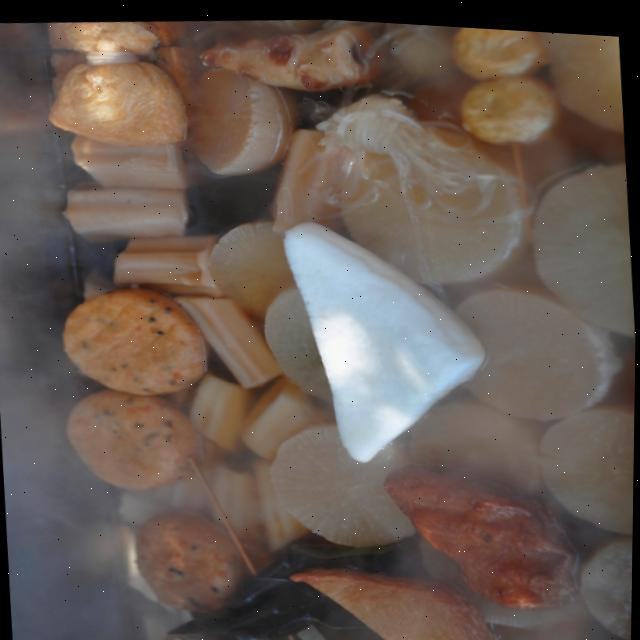汤锅炖物: (32, 2, 640, 473)
